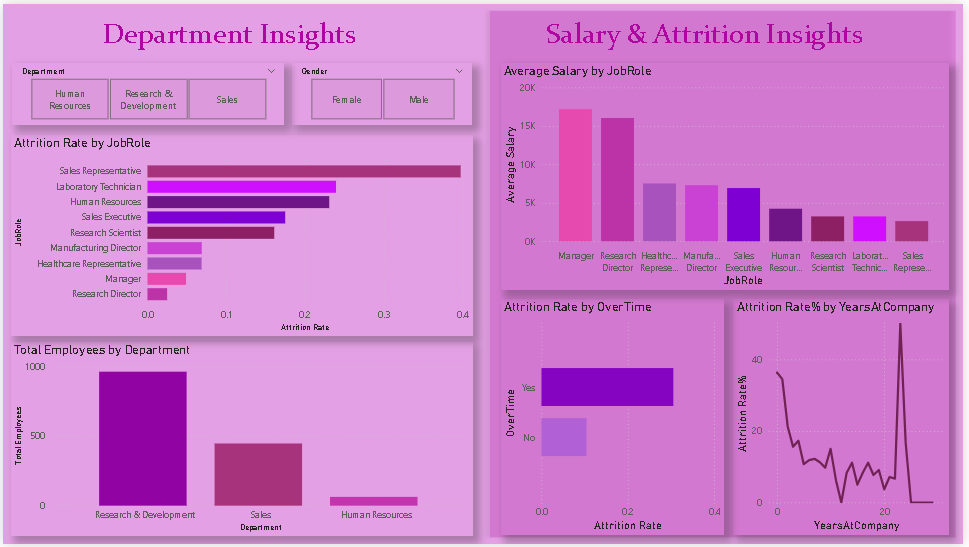

The page's visual inventory and layout, read from the dashboard file:
{"tool":"powerbi","page":{"name":"More Attrition Insights","canvas":[1280,720],"ordinal":1},"visuals":[{"type":"clusteredBarChart","fields":{"Y":["HR_Attrition_Clean.Attrition Rate"],"Category":["HR_Attrition_Clean.JobRole"]},"box":[9.8,174.2,616,267.5],"z":0},{"type":"columnChart","fields":{"Y":["HR_Attrition_Clean.Total Employees"],"Category":["HR_Attrition_Clean.Department"]},"box":[9.8,450.3,616,258.9],"z":1000},{"type":"slicer","fields":{"Values":["HR_Attrition_Clean.Department"]},"box":[11,78.5,363.2,82.2],"z":2000},{"type":"shape","box":[640.5,0,639.3,720.2],"z":3000},{"type":"clusteredColumnChart","fields":{"Category":["HR_Attrition_Clean.JobRole"],"Y":["HR_Attrition_Clean.Average Salary"]},"box":[662.6,78.5,598.8,303.1],"z":4000},{"type":"clusteredBarChart","fields":{"Category":["HR_Attrition_Clean.OverTime"],"Y":["HR_Attrition_Clean.Attrition Rate"]},"box":[662.6,393.9,298.2,315.3],"z":5000},{"type":"lineChart","fields":{"Category":["HR_Attrition_Clean.YearsAtCompany"],"Y":["HR_Attrition_Clean.Attrition Rate%"]},"box":[973,393.9,288.3,315.3],"z":6000},{"type":"slicer","fields":{"Values":["HR_Attrition_Clean.Gender"]},"box":[385.3,78.5,240.5,82.2],"z":7000},{"type":"textbox","box":[128.8,12.3,402.5,66.3],"z":8000},{"type":"textbox","box":[717.8,12.3,510.4,66.3],"z":9000}]}

Visuals, with their boxes in screenshot pixels (x1, y1, x2, y2), scaled from the page's 1280x720 canvas onto the 969x547 screenshot:
clusteredBarChart - HR_Attrition_Clean.Attrition Rate x HR_Attrition_Clean.JobRole: bbox(7, 132, 474, 336)
columnChart - HR_Attrition_Clean.Total Employees x HR_Attrition_Clean.Department: bbox(7, 342, 474, 539)
slicer - HR_Attrition_Clean.Department: bbox(8, 60, 283, 122)
shape: bbox(485, 0, 968, 546)
clusteredColumnChart - HR_Attrition_Clean.JobRole x HR_Attrition_Clean.Average Salary: bbox(502, 60, 955, 290)
clusteredBarChart - HR_Attrition_Clean.OverTime x HR_Attrition_Clean.Attrition Rate: bbox(502, 299, 727, 539)
lineChart - HR_Attrition_Clean.YearsAtCompany x HR_Attrition_Clean.Attrition Rate%: bbox(737, 299, 955, 539)
slicer - HR_Attrition_Clean.Gender: bbox(292, 60, 474, 122)
textbox: bbox(98, 9, 402, 60)
textbox: bbox(543, 9, 930, 60)
